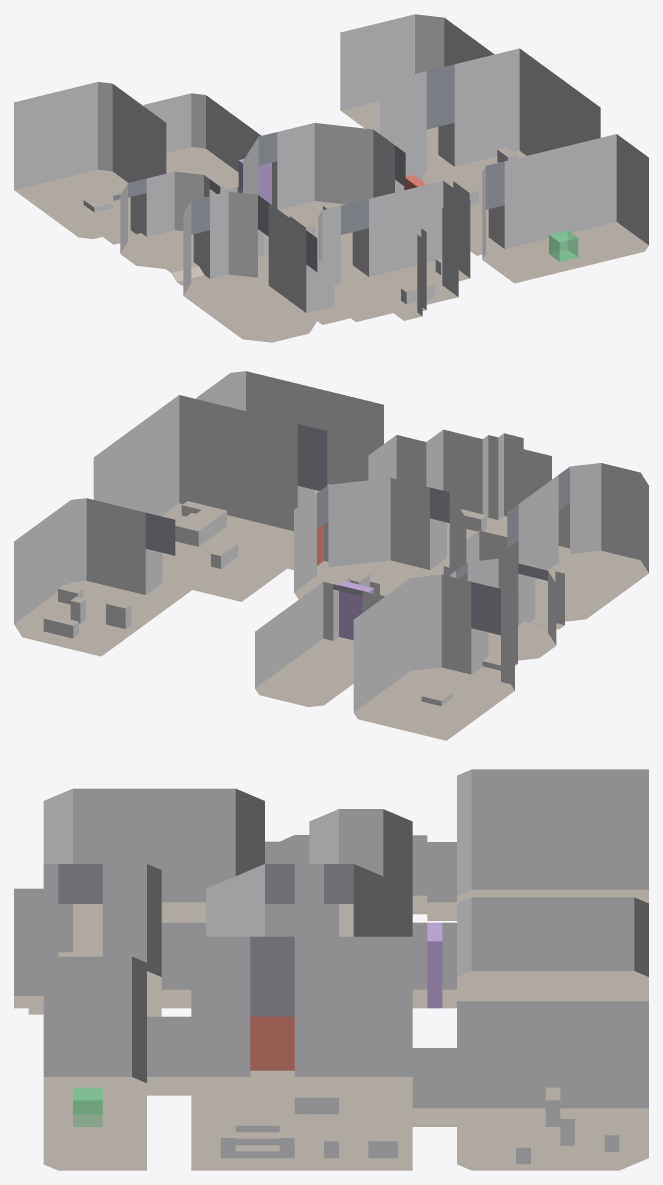
The model's file is deck_05.glb.
3 views of the same model, one above another, from view 1: azimuth 30°, elevation 25°; view 2: azimuth 150°, elevation 25°; view 3: azimuth 270°, elevation 25° (orthographic). The views are drawn at different scales.
Parts seen in each view (by area): view 1: room:3, room:4, room:6, room:1, room:0, room:2, room:7, room:8, room:5, corridor:0, entities, corridor:9 (+5 smaller); view 2: room:3, room:6, room:7, room:0, room:2, room:1, room:8, room:4, room:5, corridor:9, entities, corridor:8 (+5 smaller); view 3: room:3, room:7, room:6, room:4, room:0, room:8, room:1, room:2, room:5, entities, corridor:3, corridor:5 (+6 smaller).
Boxes of the visible parts, x1,y1,x2,y2 form: room:3: (380,48,600,241); room:4: (482,134,648,283); room:6: (14,82,166,238); room:1: (318,181,470,321); room:0: (183,191,317,342); room:2: (243,123,405,267); room:7: (340,14,494,157); room:8: (144,93,261,188); room:5: (120,171,220,268); corridor:0: (306,258,349,324); entities: (238,158,578,261); corridor:9: (166,230,209,285); room:3: (93,395,327,601); room:6: (353,574,514,740); room:7: (14,498,175,656); room:0: (507,463,648,621); room:2: (294,478,466,599); room:1: (368,429,551,557); room:8: (255,582,383,706); room:4: (196,371,383,494); room:5: (450,558,556,660); corridor:9: (518,567,564,632); entities: (317,524,373,640); corridor:8: (466,530,518,563); room:3: (191,936,412,1170); room:7: (457,1001,648,1170); room:6: (457,769,648,903); room:4: (43,956,146,1170); room:0: (43,788,264,952); room:8: (457,897,648,1001); room:1: (14,864,161,1016); room:2: (206,864,412,936); room:5: (309,809,412,936); entities: (73,922,442,1126); corridor:3: (147,1016,191,1095); corridor:5: (412,835,456,920).
Size of the model in its own units: 45 by 10.5 by 43.
